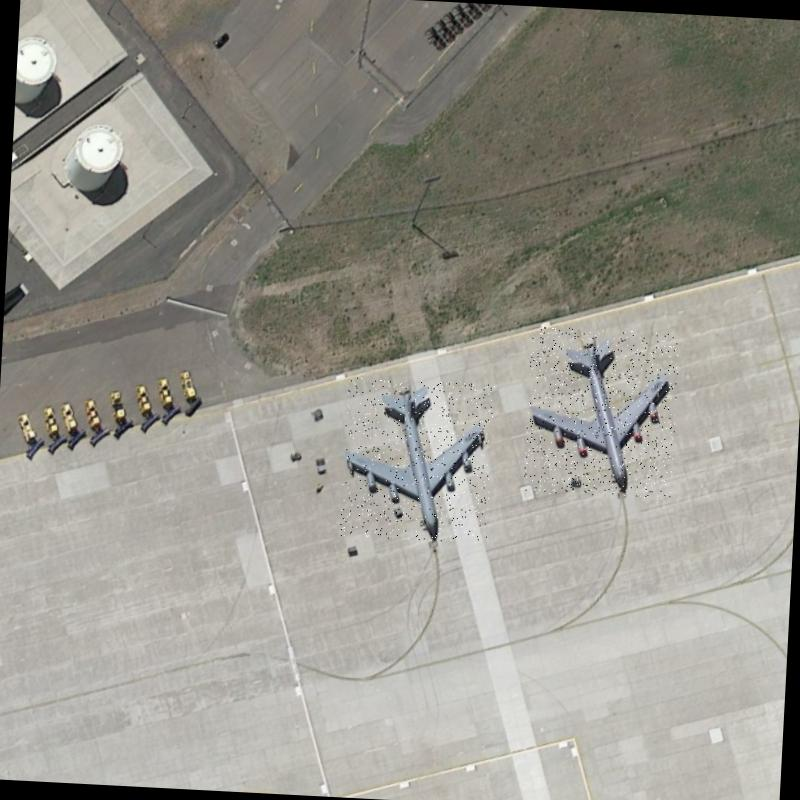A14: (523, 326, 680, 500), (340, 378, 495, 544)
